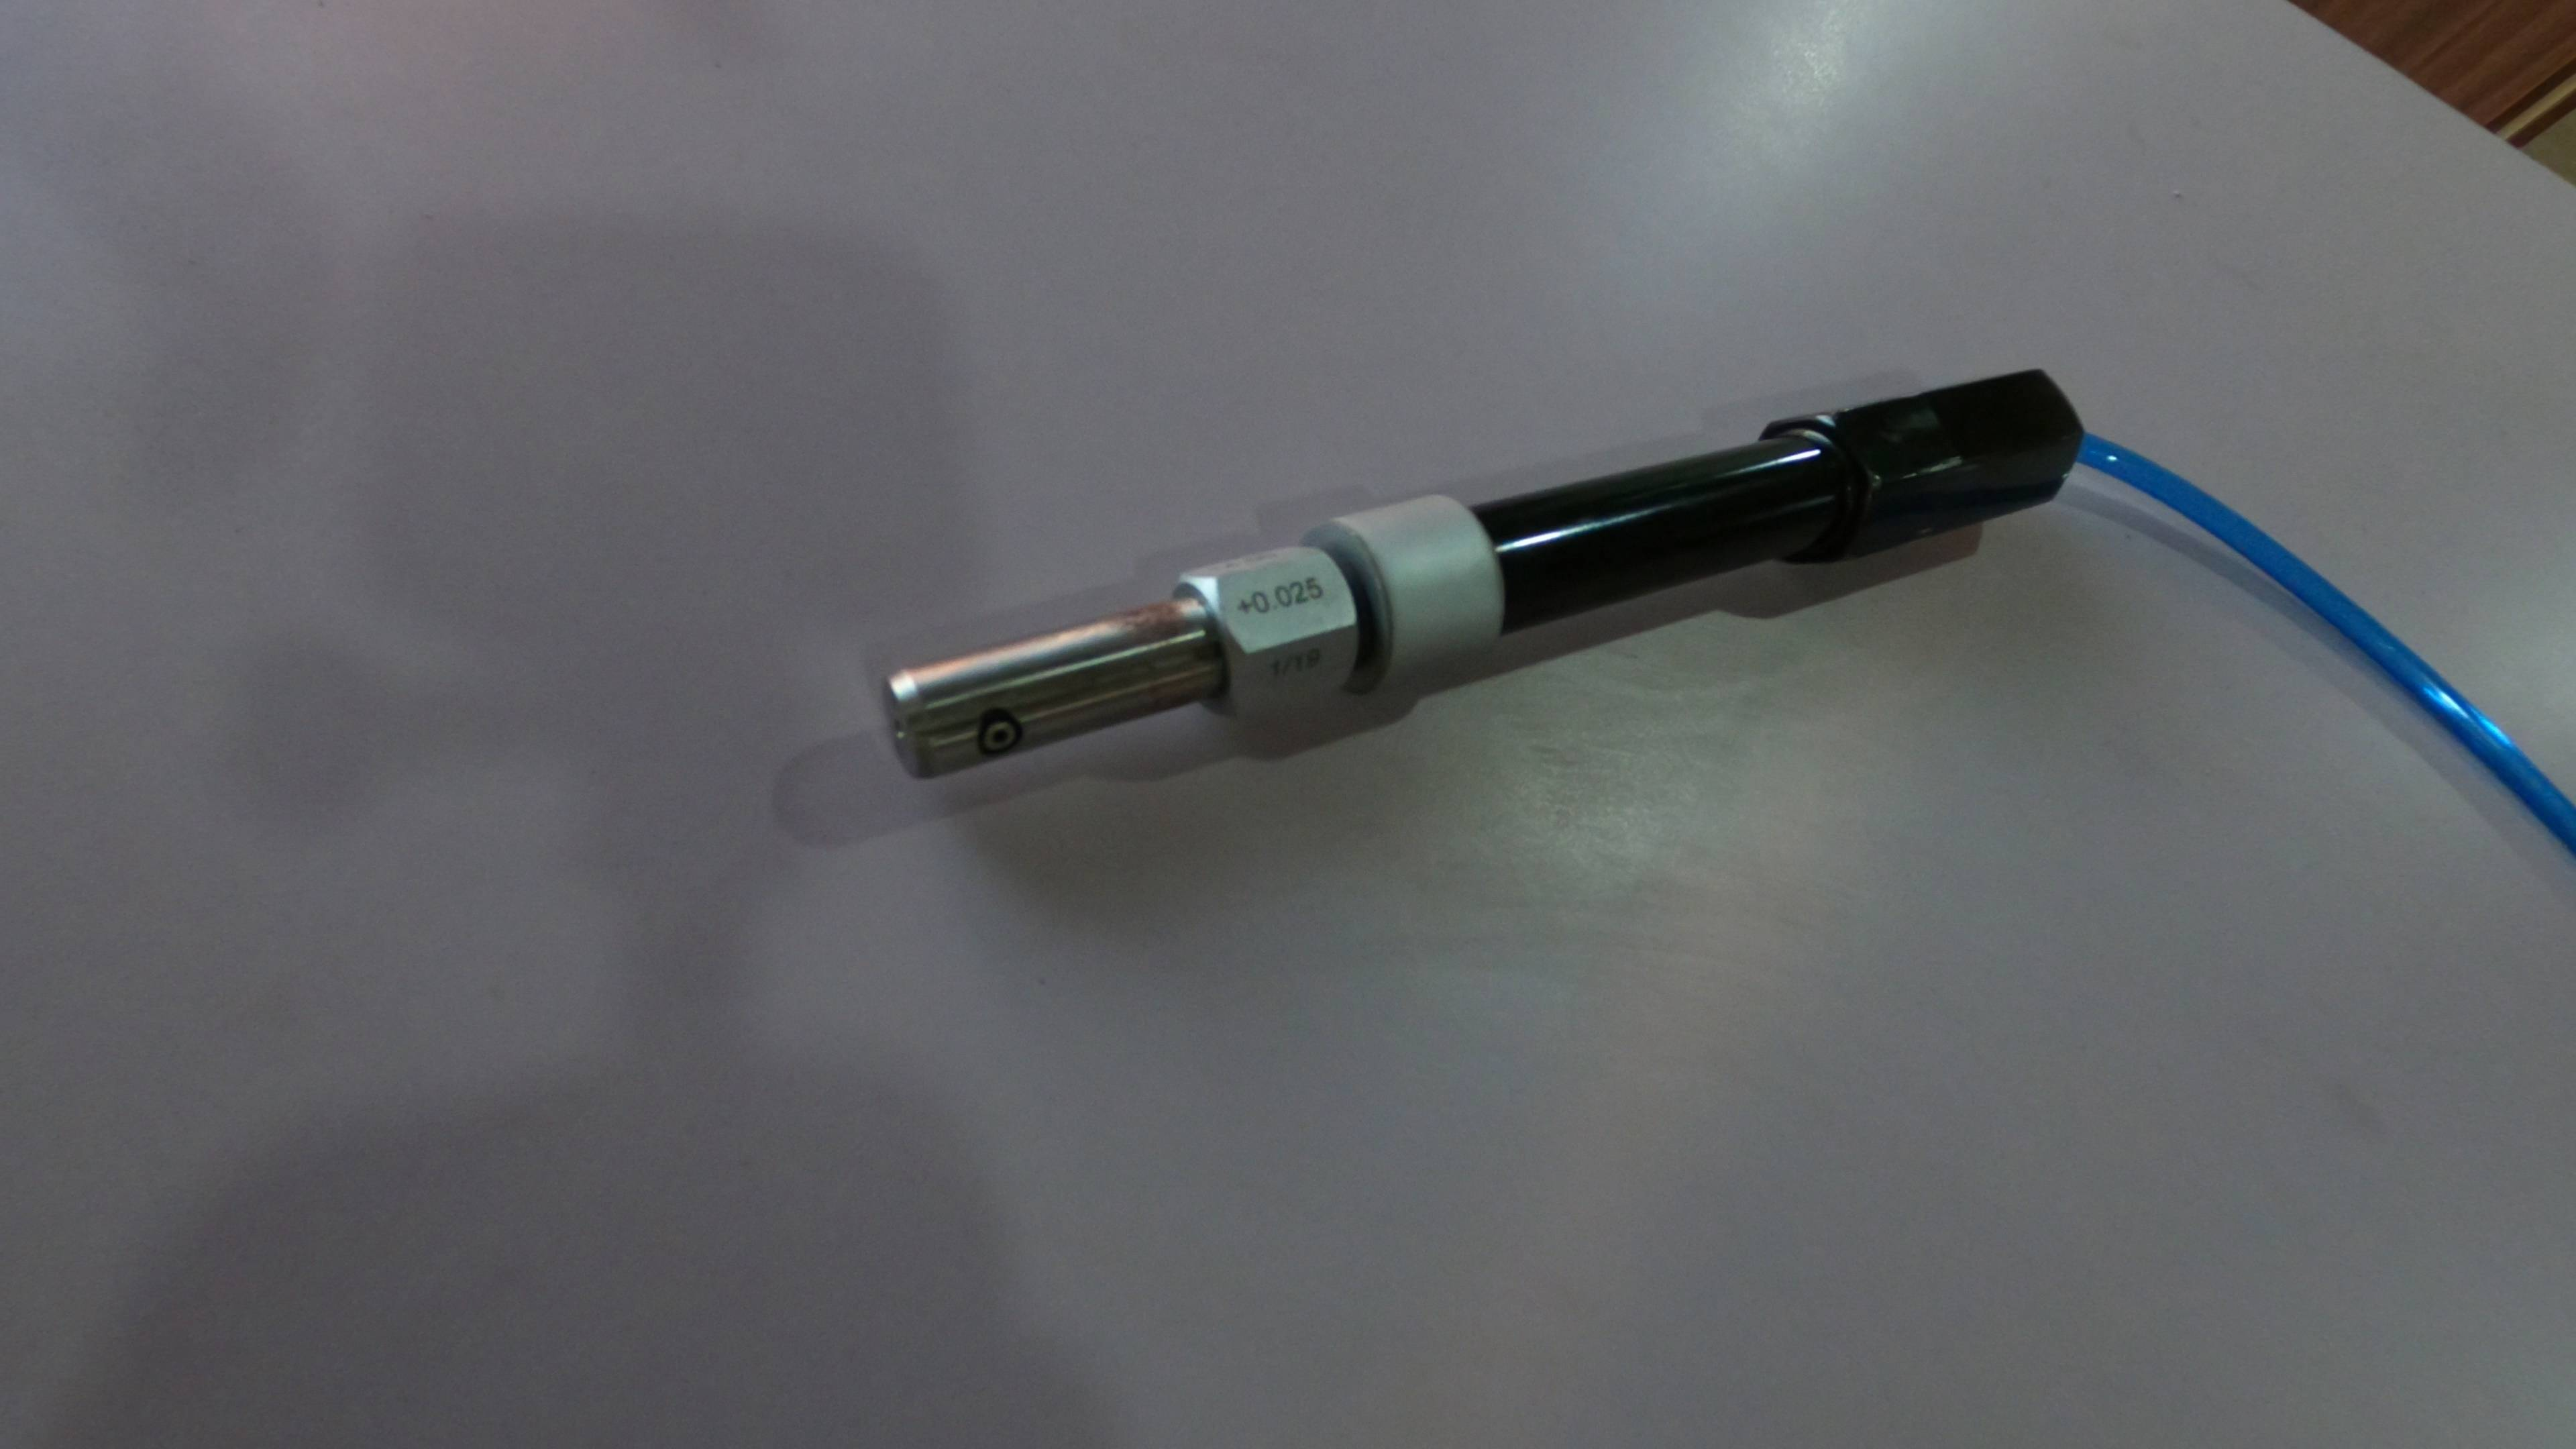air_gauge: (874, 364, 2089, 911)
